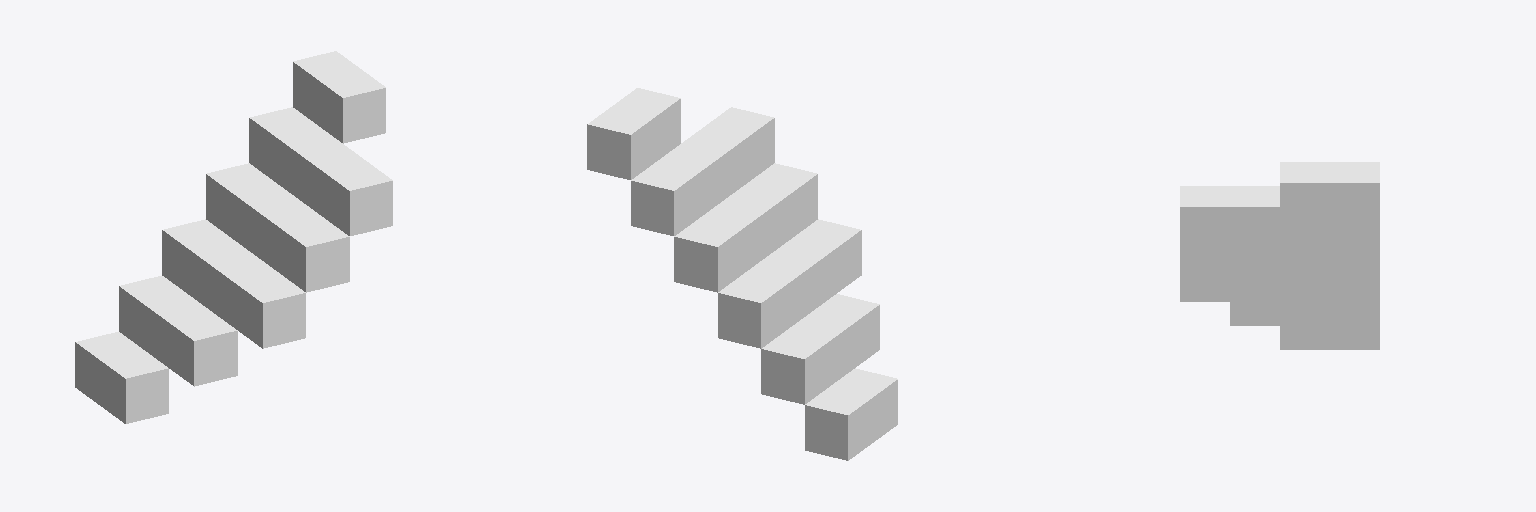
File: YellowHouseParts-99.obj
3 renders of one model, left to right at view 1: azimuth 30°, elevation 25°; view 2: azimuth 150°, elevation 25°; view 3: azimuth 270°, elevation 25°, orthographic.
Parts seen in each view (by area): view 1: object 1; view 2: object 1; view 3: object 1.
Part boxes in pixels (left/top/right/bottom): object 1: left=75, top=51, right=392, bottom=423; object 1: left=587, top=88, right=897, bottom=460; object 1: left=1180, top=162, right=1379, bottom=349.
Size of the model in its own units: 0.6 by 0.6 by 0.4.